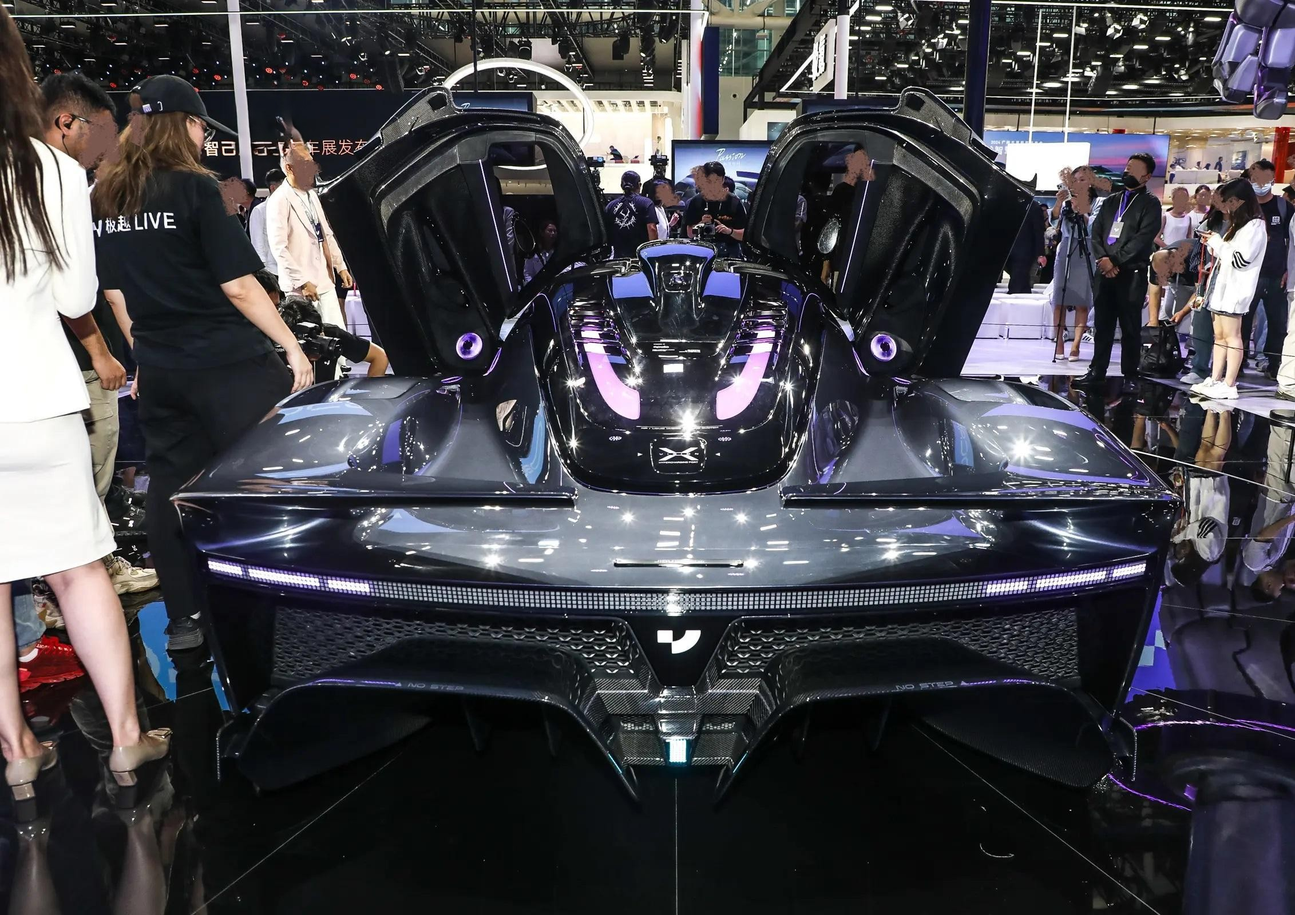JIYUE: (656, 630, 701, 654)
